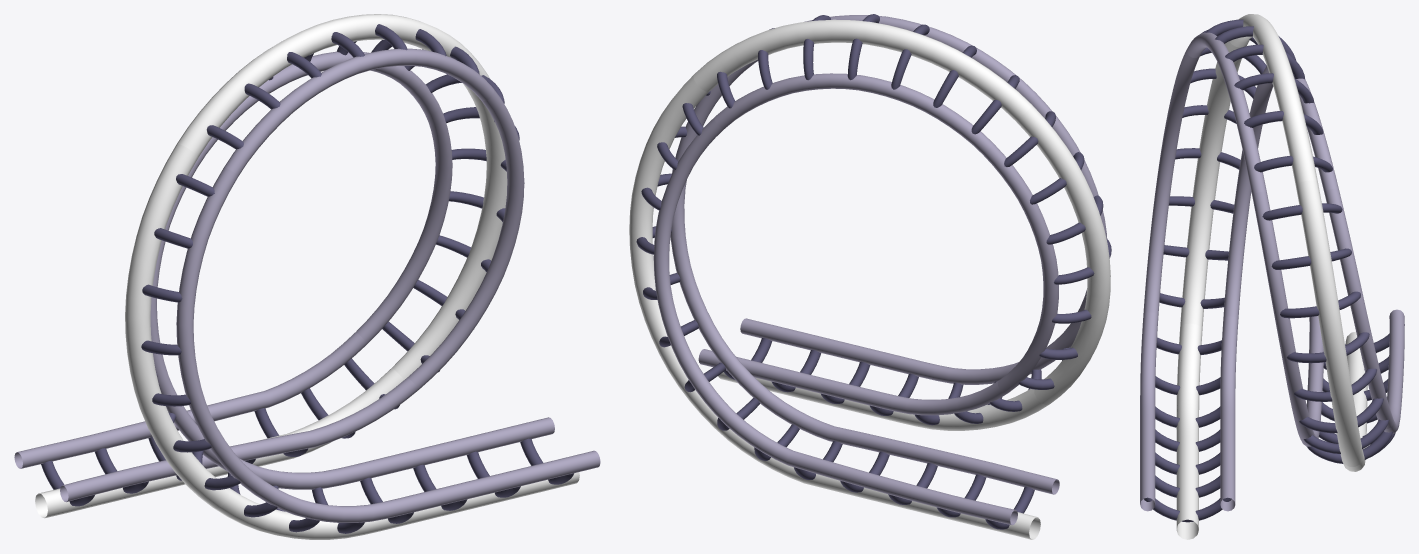
The model's file is loop.obj.
3 renders of one model, left to right at view 1: azimuth 30°, elevation 25°; view 2: azimuth 150°, elevation 25°; view 3: azimuth 270°, elevation 25°, orthographic. The views are drawn at different scales.
Parts seen in each view (by area): view 1: Plane.309_Mesh; view 2: Plane.309_Mesh; view 3: Plane.309_Mesh.
Boxes of the visible parts, x1,y1,x2,y2 form: Plane.309_Mesh: (14,14,600,539); Plane.309_Mesh: (629,14,1111,539); Plane.309_Mesh: (1140,14,1404,539).
Size of the model in its own units: 13.27 by 13.2 by 7.61.
Materials: 1 (1 with a texture image).
